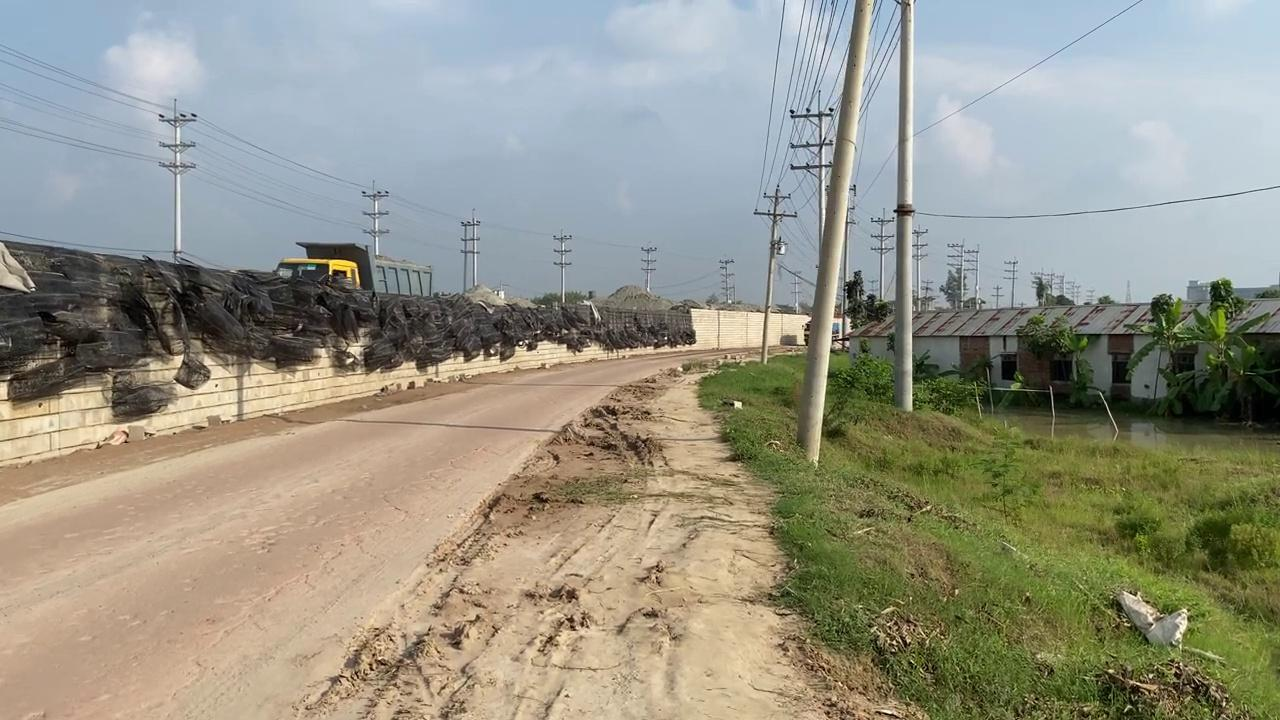Garbage: (0, 238, 697, 414)
Muddy road: (1, 340, 830, 718)
Pole: (796, 0, 875, 466), (892, 0, 915, 412)
Sidewalk: (979, 407, 1278, 453)
Tree: (273, 240, 432, 297)
